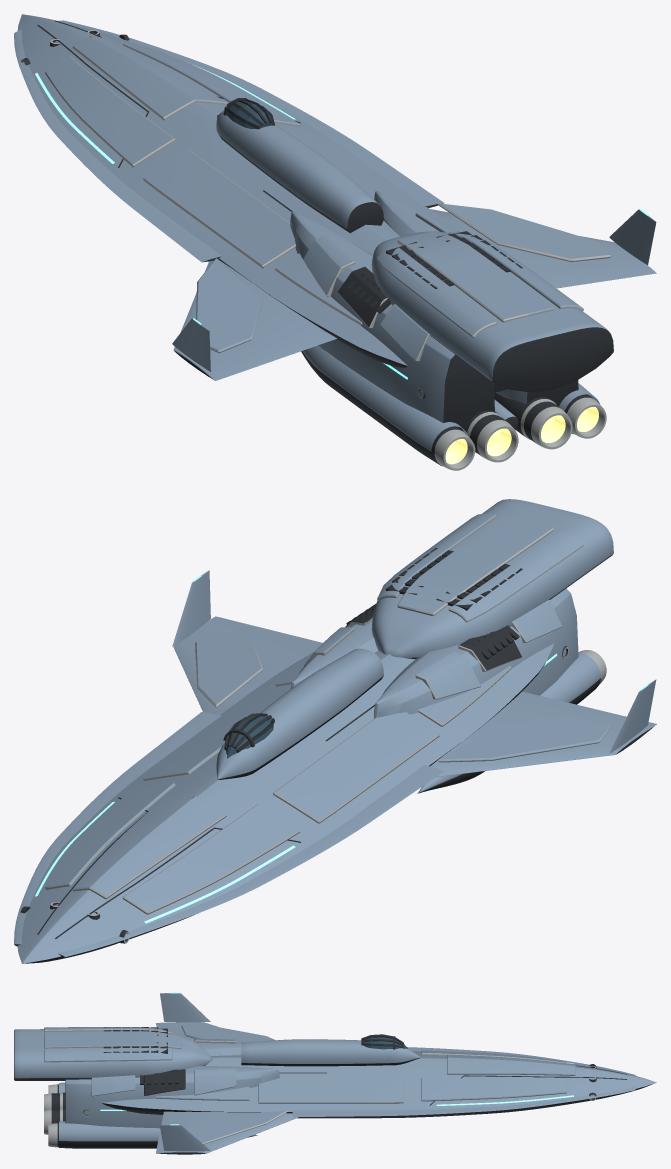
File: condor.glb
3 renders of one model, top to bottom at view 1: azimuth 30°, elevation 25°; view 2: azimuth 150°, elevation 25°; view 3: azimuth 270°, elevation 25°, orthographic. The views are drawn at different scales.
Parts seen in each view (by area): view 1: Hull_Condor; view 2: Hull_Condor; view 3: Hull_Condor.
Boxes of the visible parts, x1,y1,x2,y2 form: Hull_Condor: (14,14,656,470); Hull_Condor: (14,499,656,963); Hull_Condor: (14,992,656,1154).
Size of the model in its own units: 73.02 by 23.76 by 150.
